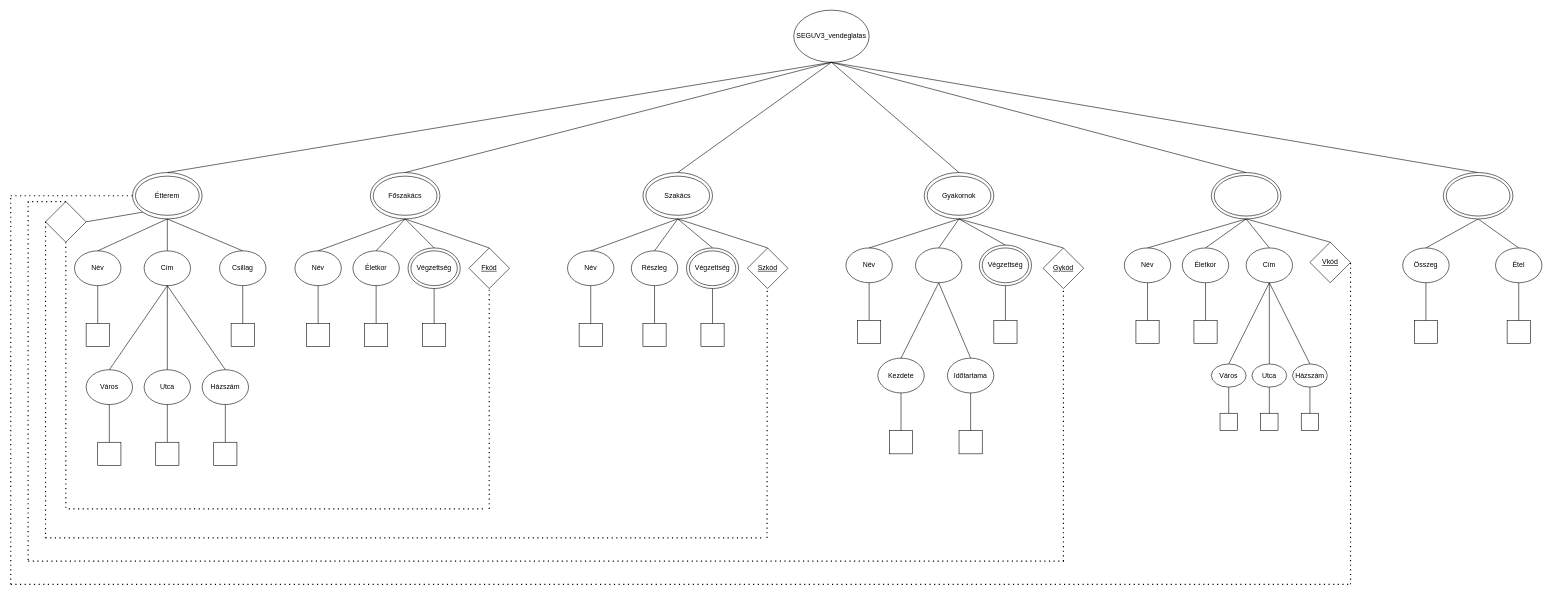
Some shapes in this 1552 by 596 pixel diagram are drawn without their labels. The box of each missing label's shape, as (x1, y1, x2, y2) in pixels:
Ekód: (45, 201, 86, 242)
Gyakorlat: (915, 247, 962, 283)
Rendelés: (1446, 175, 1510, 216)
Vendég: (1214, 175, 1278, 216)
